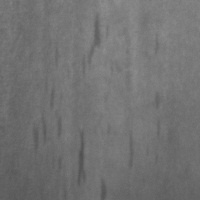inclusion: (24, 70, 65, 153), (78, 11, 117, 73), (69, 123, 93, 190), (120, 124, 139, 173), (96, 173, 112, 199), (153, 115, 166, 144), (150, 29, 163, 58), (152, 89, 164, 112)
